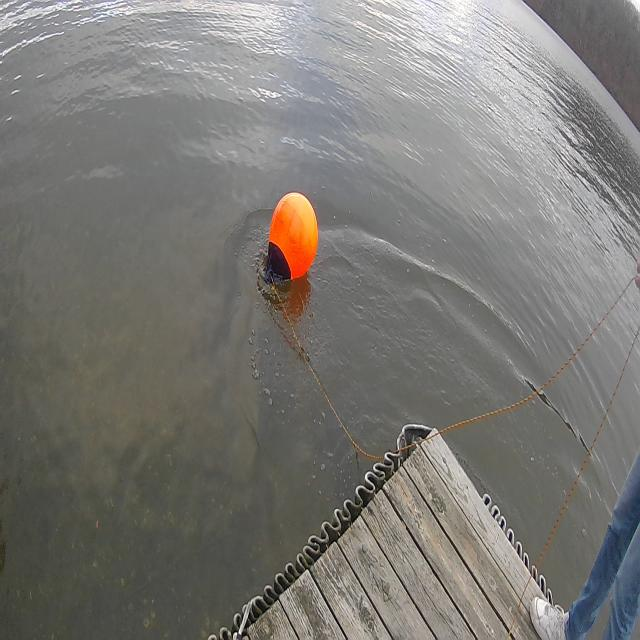Buoy: (255, 179, 328, 299)
